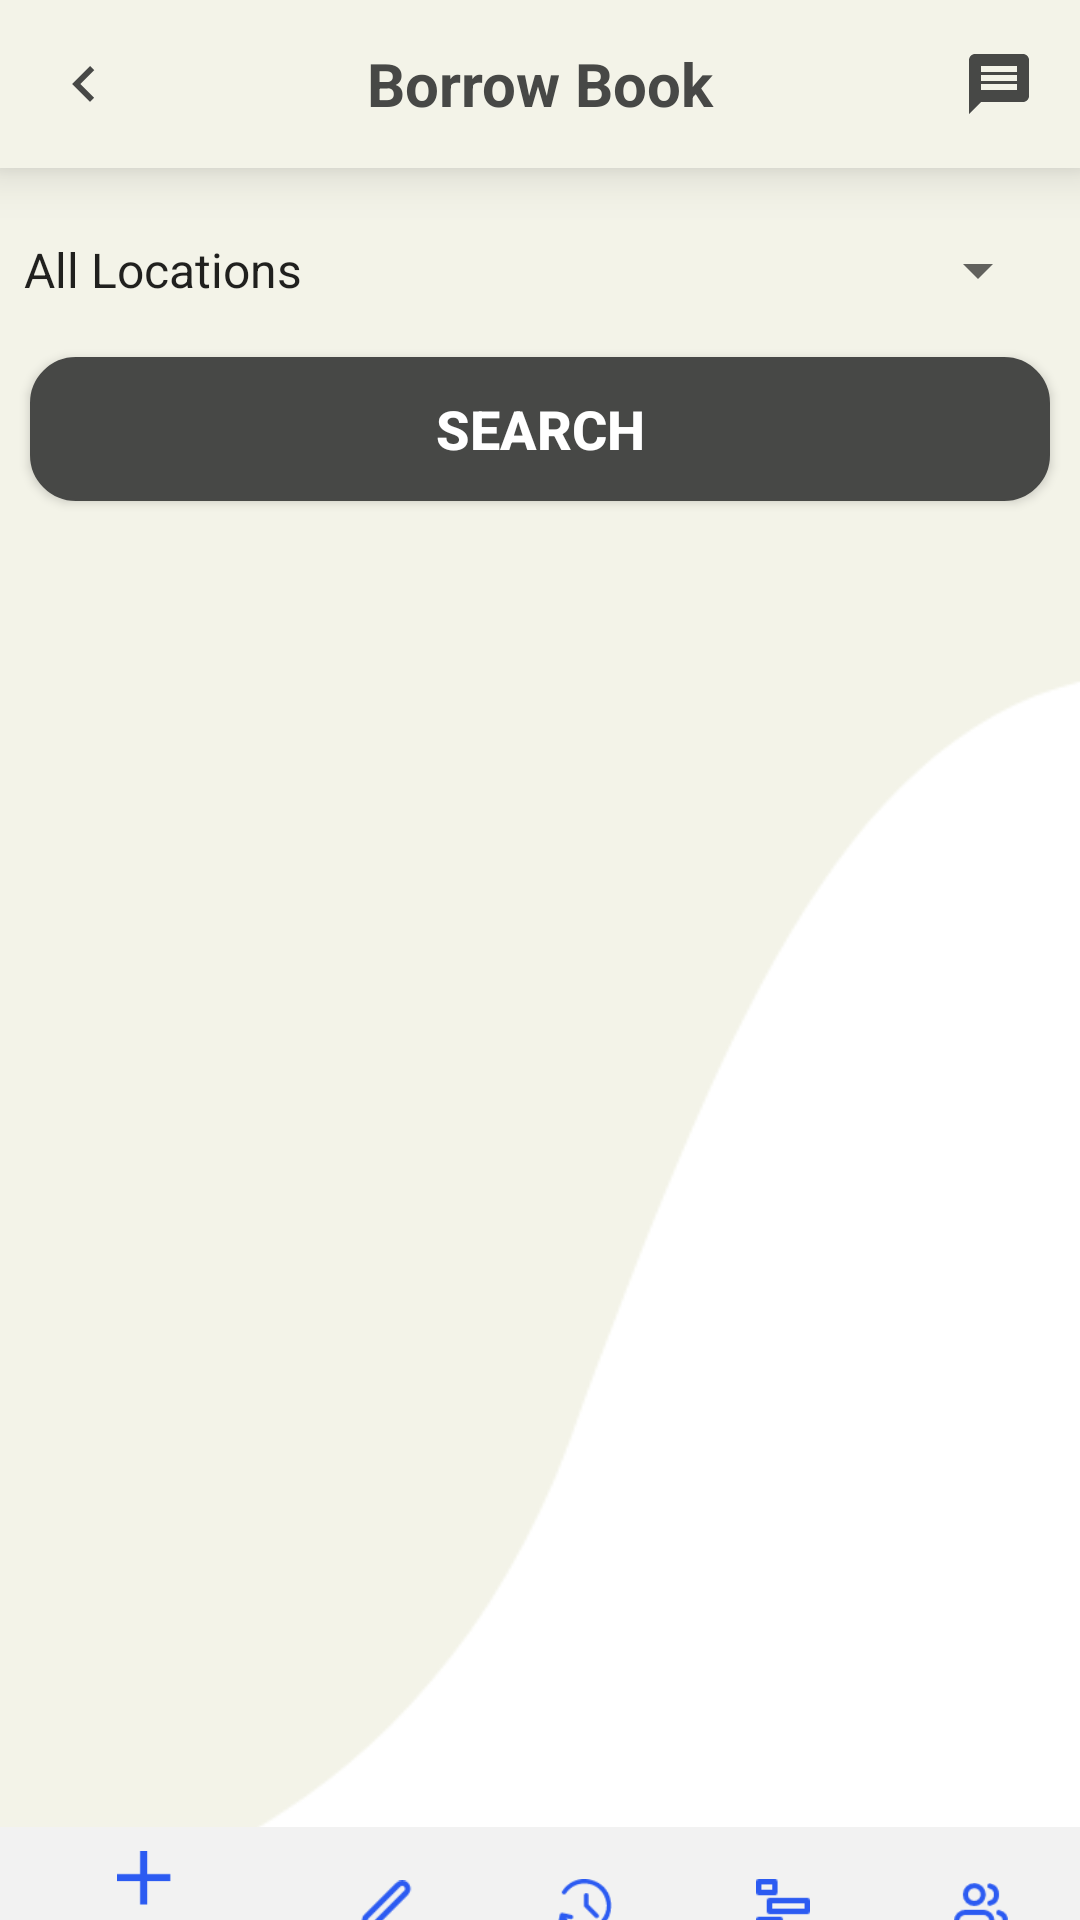

Point at icon controls on the screen. Image size 1080w x 1920h, points as (x,y).
arrow left: (83,84)
message: (999,84)
